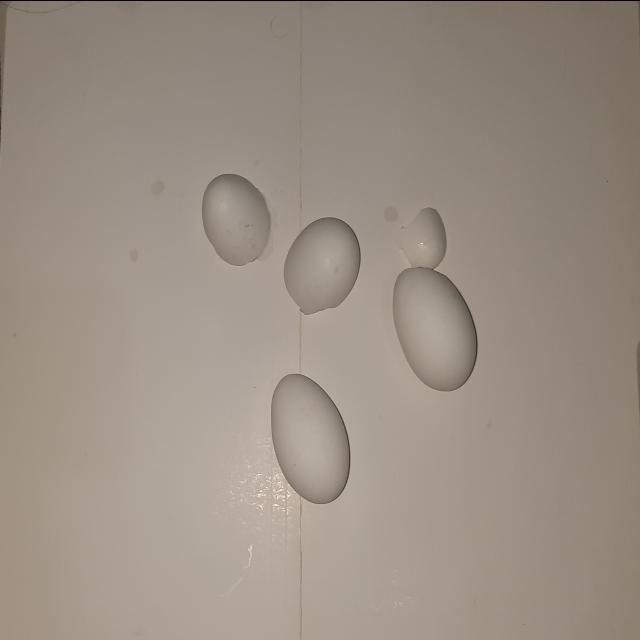egg shell: (266, 364, 354, 506), (389, 268, 482, 396), (280, 213, 364, 315), (200, 172, 274, 270), (397, 206, 450, 266)
